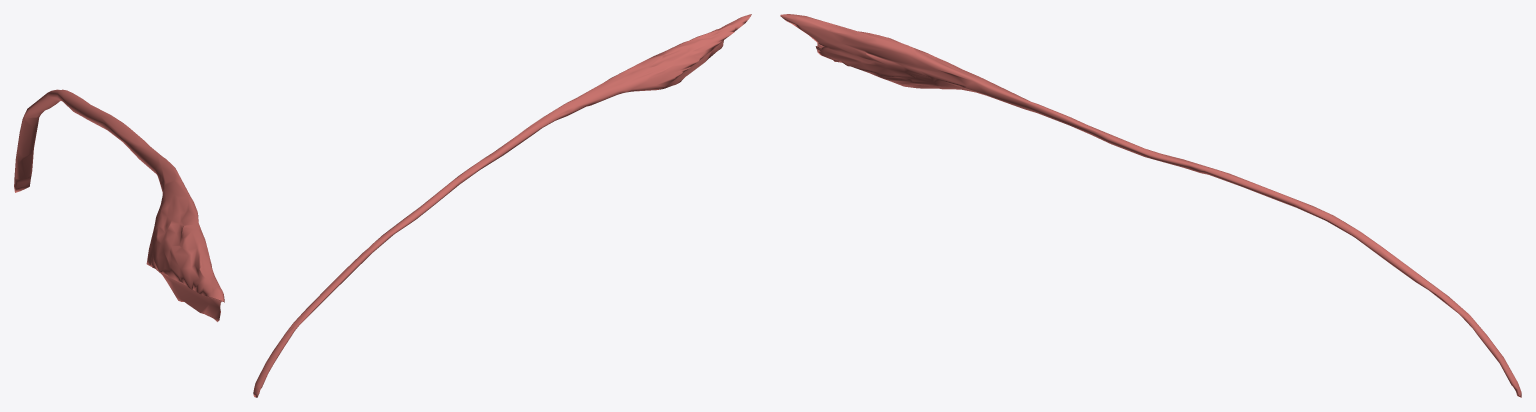
3 views of the same model, side by side, from view 1: azimuth 30°, elevation 25°; view 2: azimuth 150°, elevation 25°; view 3: azimuth 270°, elevation 25° (orthographic). The views are drawn at different scales.
Parts seen in each view (by area): view 1: 左侧示指伸肌; view 2: 左侧示指伸肌; view 3: 左侧示指伸肌.
Boxes of the visible parts, x1=… form: 左侧示指伸肌: x1=14, y1=89, x2=224, y2=321; 左侧示指伸肌: x1=253, y1=14, x2=751, y2=397; 左侧示指伸肌: x1=780, y1=14, x2=1521, y2=397.
Bounding box in the file's own units: 0.1189 × 0.1195 × 0.3036.
